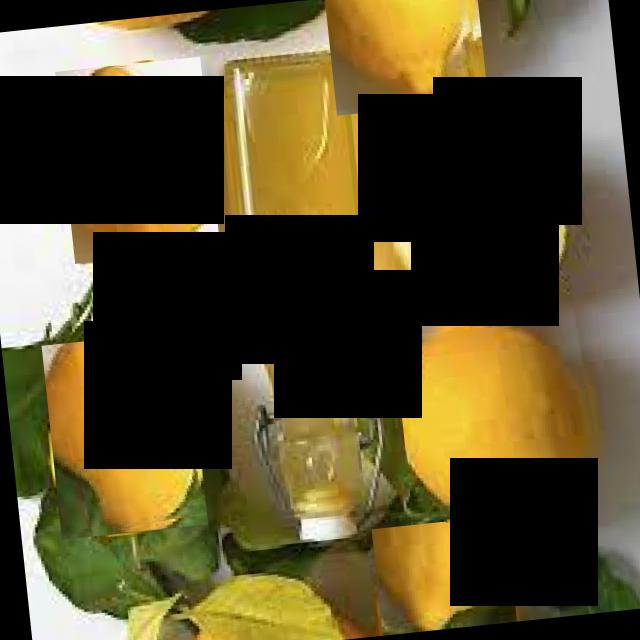lemon: (391, 296, 611, 546), (382, 122, 591, 316), (41, 330, 208, 539), (54, 56, 220, 263), (324, 0, 488, 115), (371, 515, 517, 635)
